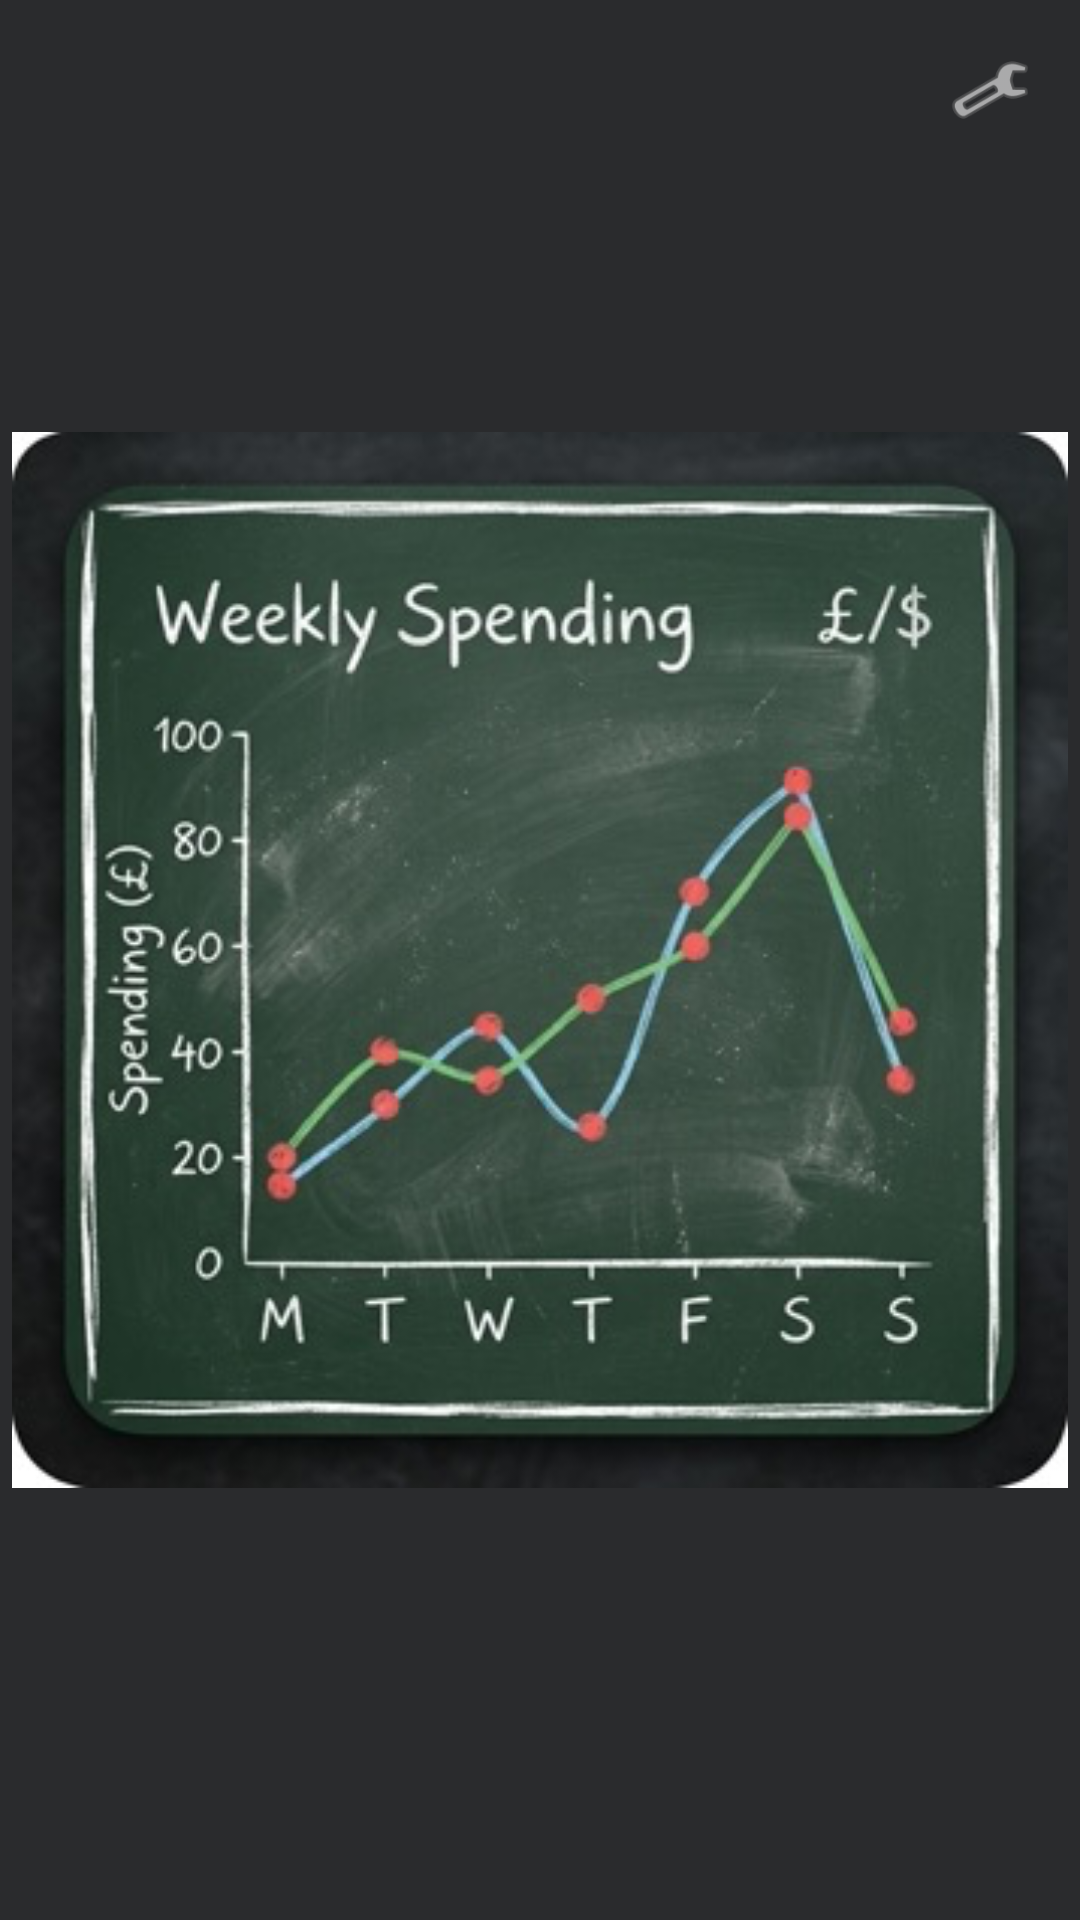

Icon bounding boxes for this 1080*1920 phone screenshot, format (x1, y1, x2, y2):
Configure Widget: (953, 62, 1027, 118)
